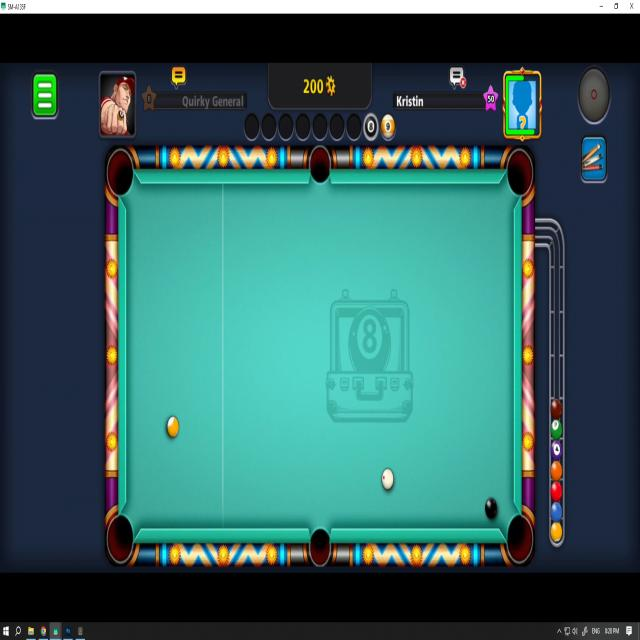object_ball: (167, 416, 179, 437), (485, 498, 496, 518)
white_cue_ball: (382, 468, 394, 490)
